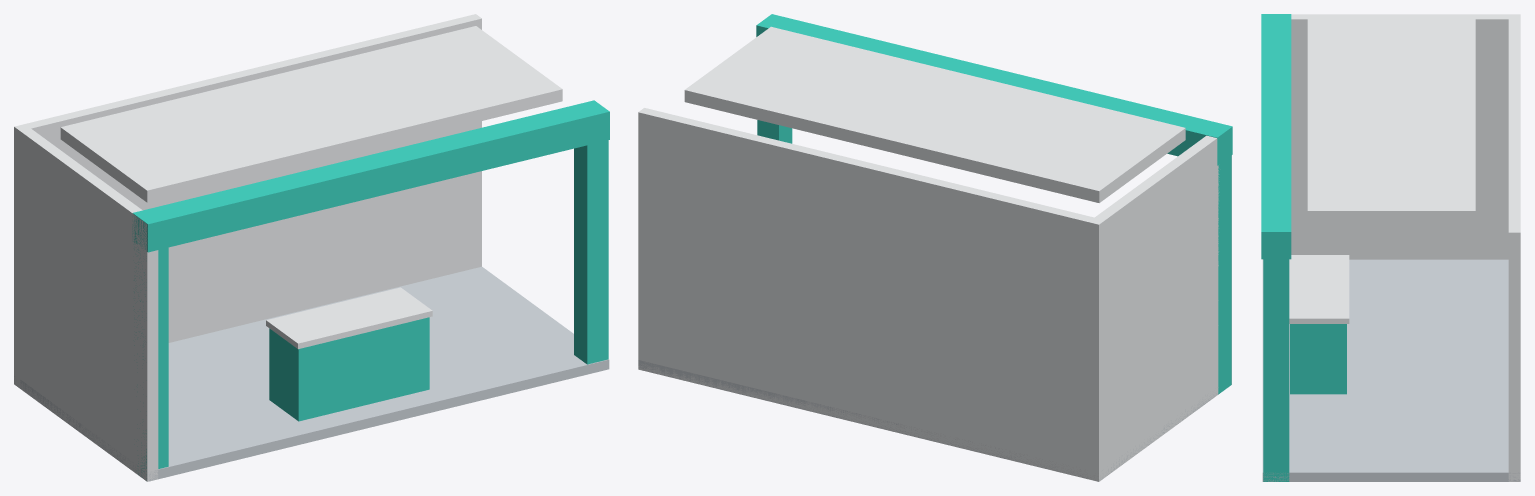
3 views of the same model, side by side, from view 1: azimuth 30°, elevation 25°; view 2: azimuth 150°, elevation 25°; view 3: azimuth 270°, elevation 25° (orthographic). The views are drawn at different scales.
Parts seen in each view (by area): view 1: Exhibition Booth Concept; view 2: Exhibition Booth Concept; view 3: Exhibition Booth Concept.
Boxes of the visible parts, x1,y1,x2,y2 form: Exhibition Booth Concept: (14,14,609,481); Exhibition Booth Concept: (638,14,1232,481); Exhibition Booth Concept: (1261,14,1520,481).
Bounding box in the file's own units: 6 × 3.34 × 3.01.
